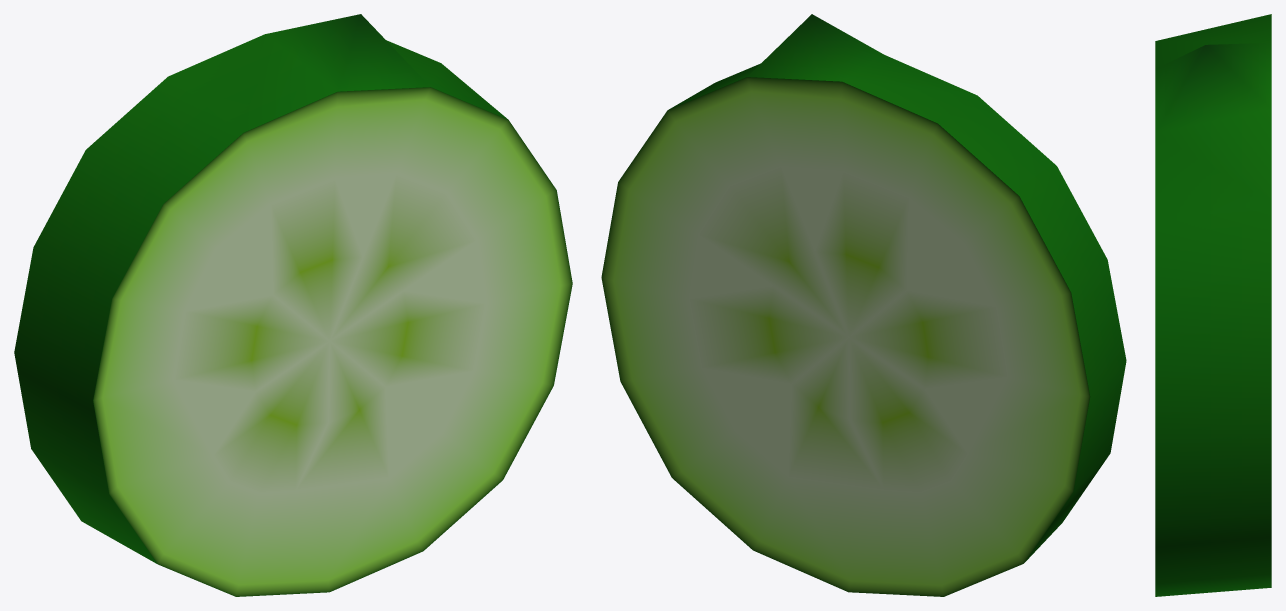
The model's file is Cucumber_Slice_04.fbx.
The picture shows the model from 3 angles, left to right: view 1: azimuth 30°, elevation 25°; view 2: azimuth 150°, elevation 25°; view 3: azimuth 270°, elevation 25°; orthographic projection. The views are drawn at different scales.
Parts seen in each view (by area): view 1: Cucumber_Slice_04; view 2: Cucumber_Slice_04; view 3: Cucumber_Slice_04.
Part boxes in pixels (left/top/right/bottom): Cucumber_Slice_04: left=14, top=14, right=572, bottom=596; Cucumber_Slice_04: left=601, top=14, right=1126, bottom=596; Cucumber_Slice_04: left=1155, top=14, right=1271, bottom=596.
Size of the model in its own units: 4.29 by 4.48 by 0.8573.
